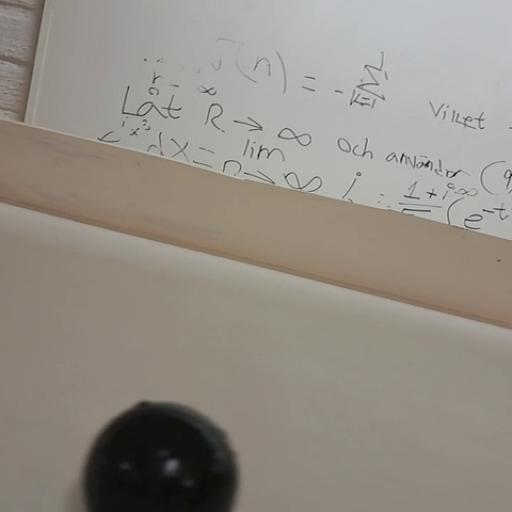dead: (80, 398, 237, 512)
